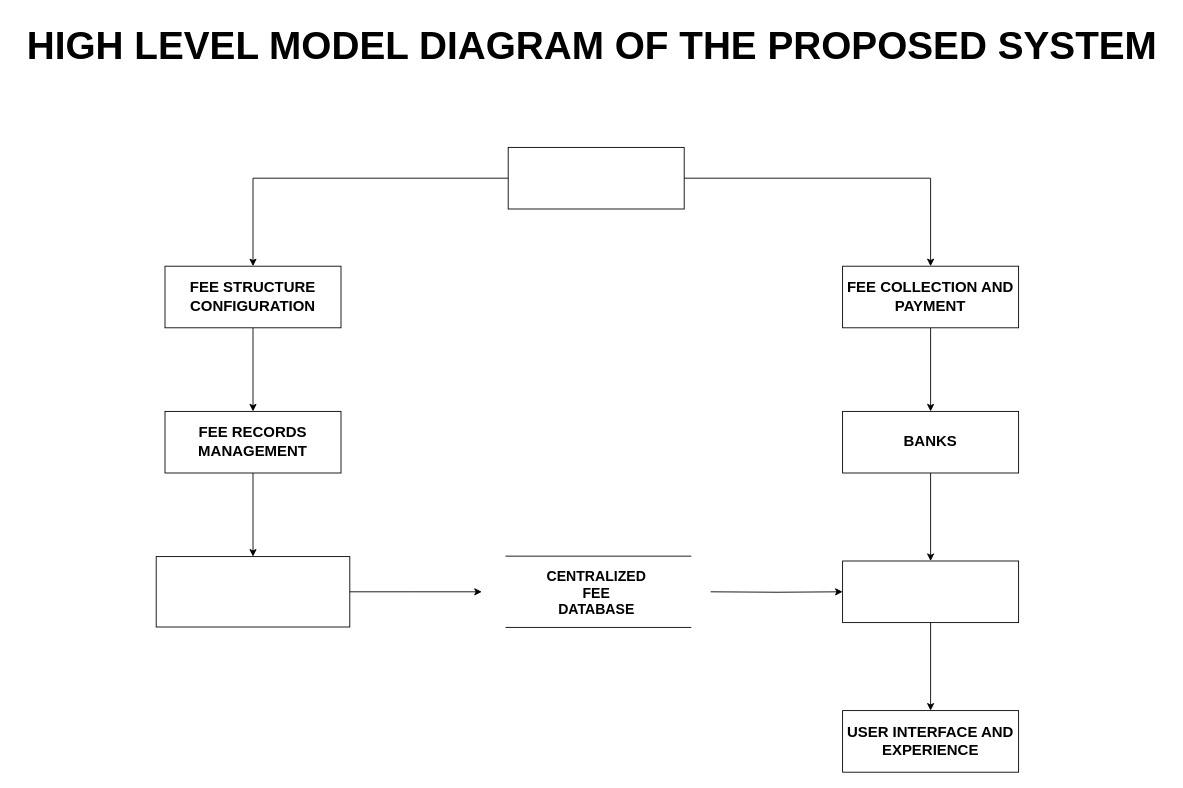
The diagram is 1183 pixels wide and 788 high, and some of its shapes have lost their labels. The centre of each missing label's shape, as x and y in pixels:
"BURSARY" goes at (x=595, y=178).
"REPORTING AND ANALYSIS" goes at (x=252, y=591).
"STUDENTS" goes at (x=930, y=591).
